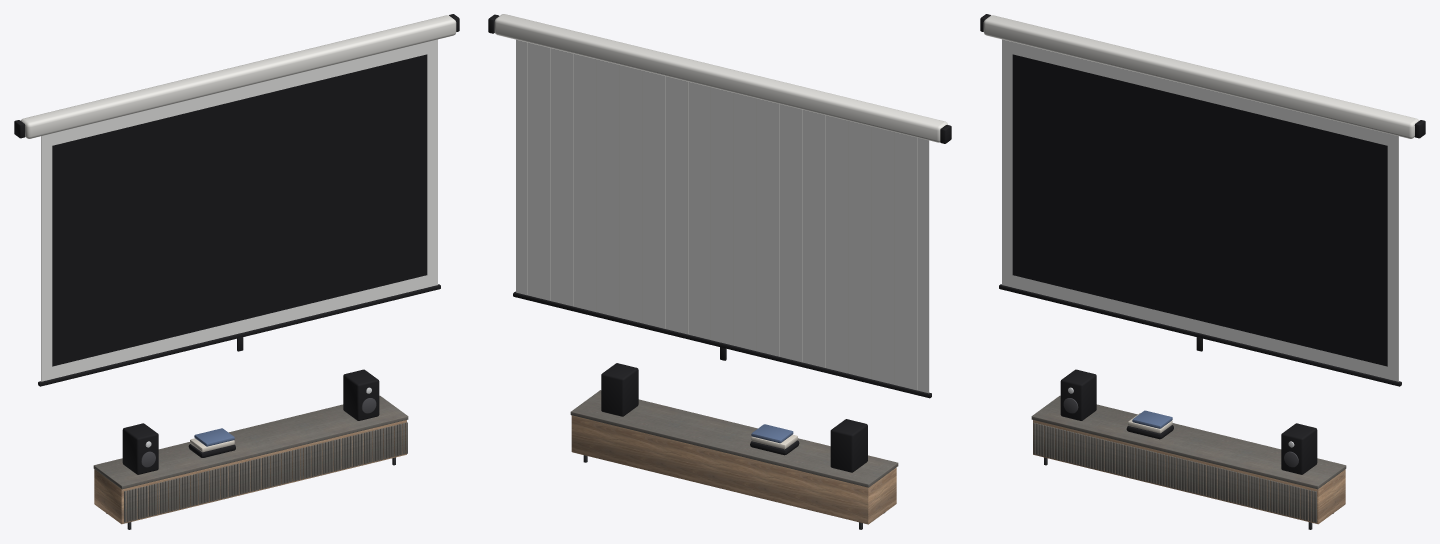
Rendered from proiettore.glb.
3 views of the same model, side by side, from view 1: azimuth 30°, elevation 25°; view 2: azimuth 150°, elevation 25°; view 3: azimuth 330°, elevation 25° (orthographic). The views are drawn at different scales.
Parts seen in each view (by area): view 1: proiettore_schermo, proiettore_telo, proiettore_mobile; view 2: proiettore_telo, proiettore_mobile; view 3: proiettore_schermo, proiettore_telo, proiettore_mobile.
Part boxes in pixels (x1,y1,x2,y2): proiettore_schermo: (52, 54, 427, 366); proiettore_telo: (14, 14, 459, 386); proiettore_mobile: (93, 369, 408, 529); proiettore_telo: (488, 14, 951, 398); proiettore_mobile: (570, 363, 898, 529); proiettore_schermo: (1012, 54, 1387, 366); proiettore_telo: (980, 14, 1425, 386); proiettore_mobile: (1031, 369, 1346, 529).
Size of the model in its own units: 3.99 by 3.56 by 0.503.
12 materials, 2 textured.
